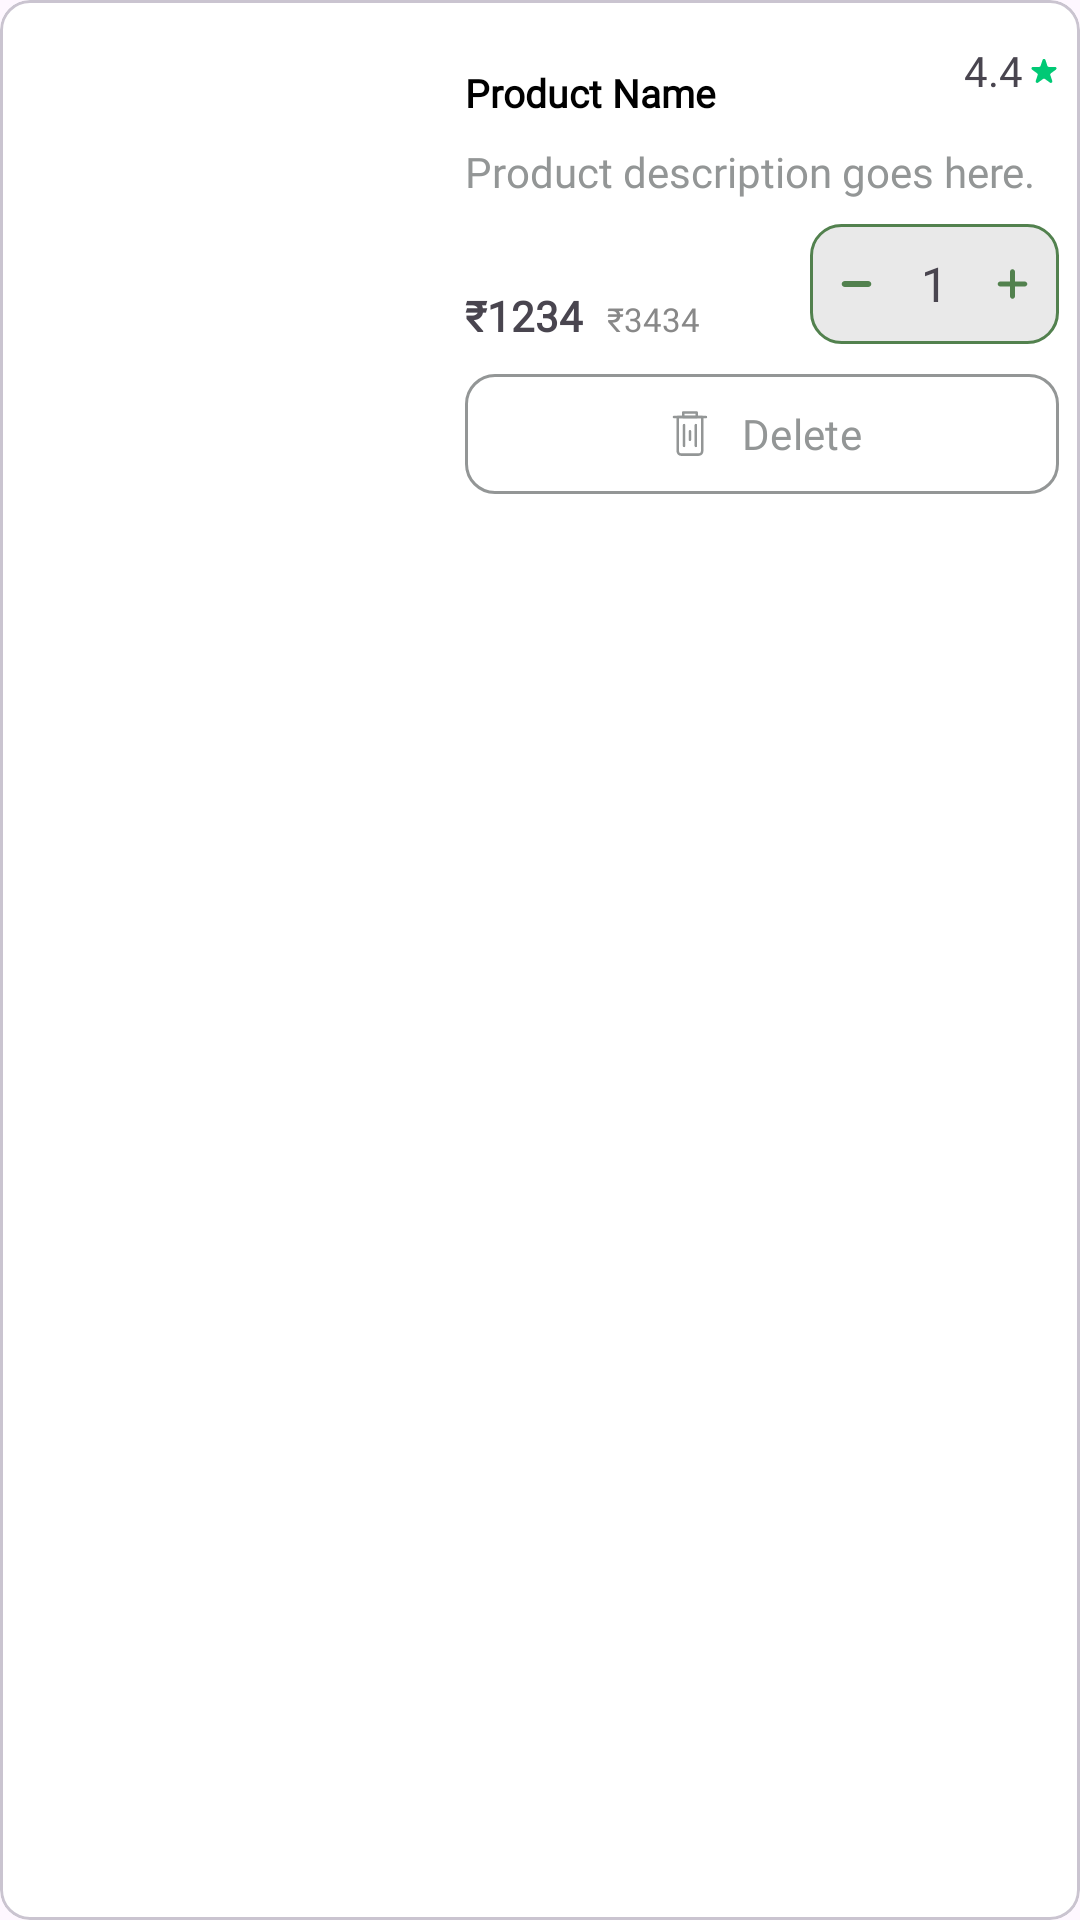

Where to tap for icons on this 1080w x 1920h app screen, as [x,y]:
minus: [856,284]
plus: [1012,284]
